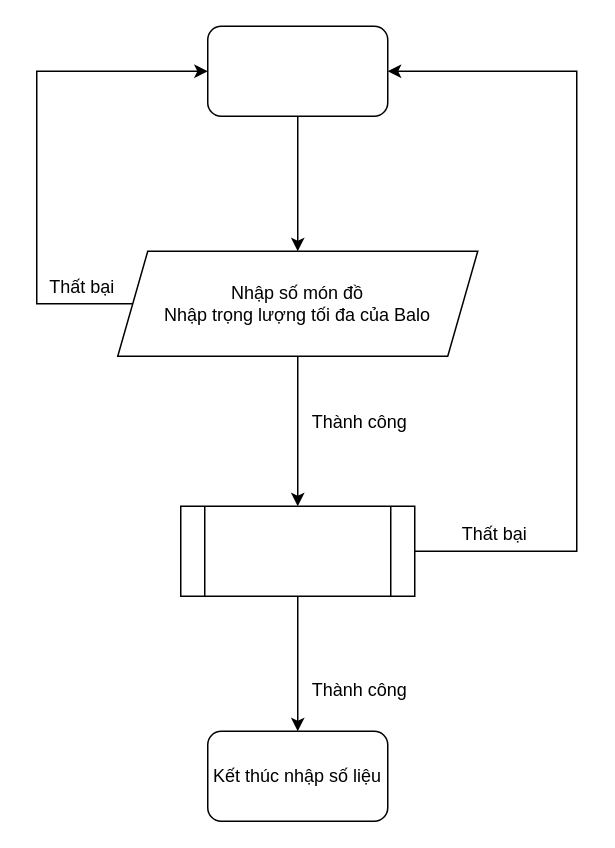
The diagram is 615 pixels wide and 848 high, and some of its shapes have lost their labels. Here are the shapes that lost their labels. From the top down, the centre of each, then its label:
the point at 297,70: Nhập số liệu
the point at 297,550: Nhập trọng lương và giá trị từng món đồ
